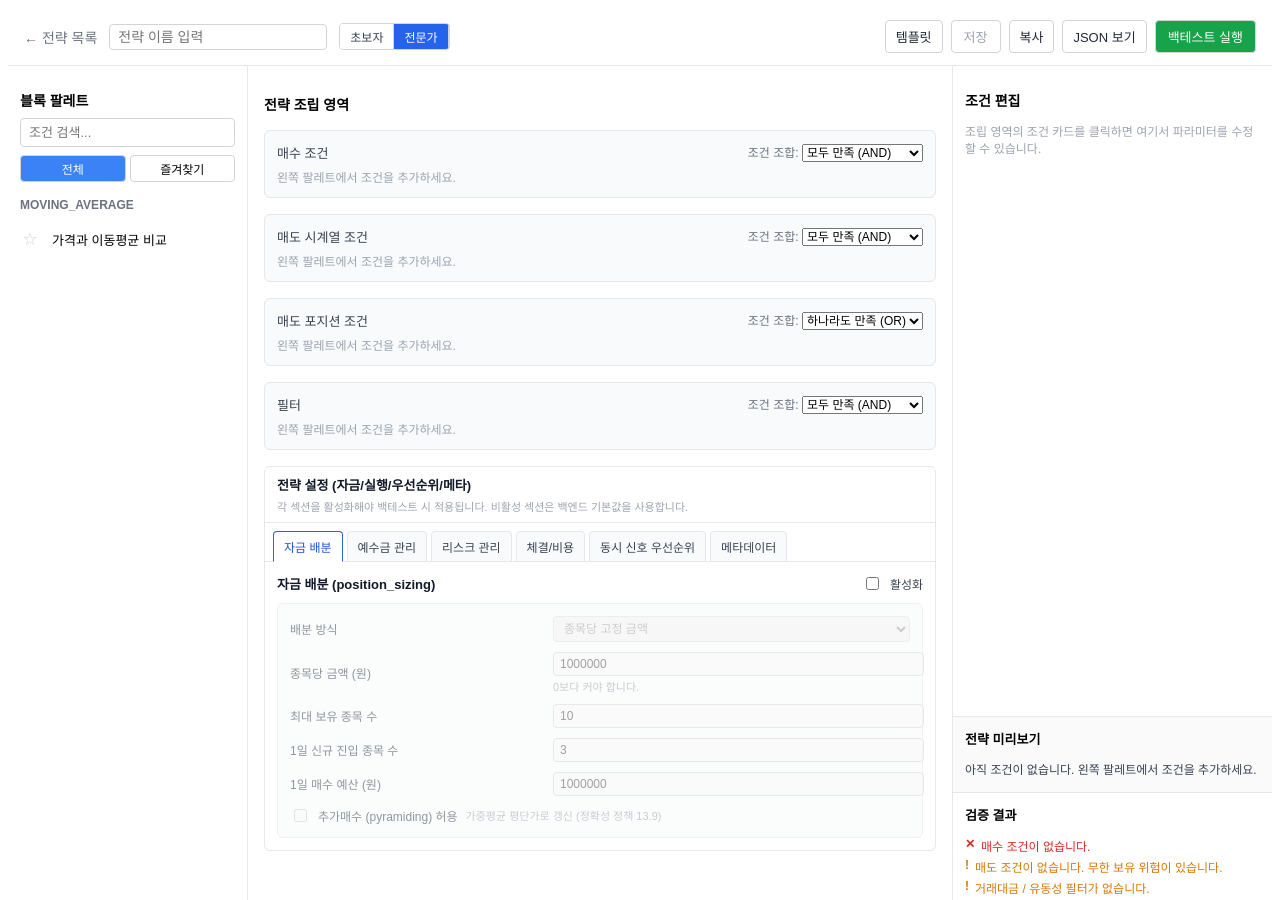
Scenario: ConditionEditorPanel › select 변경 (operator 위→아래)
Click the button "가격과 이동평균 비교".
click(140, 239)  # box [44, 224, 235, 255]
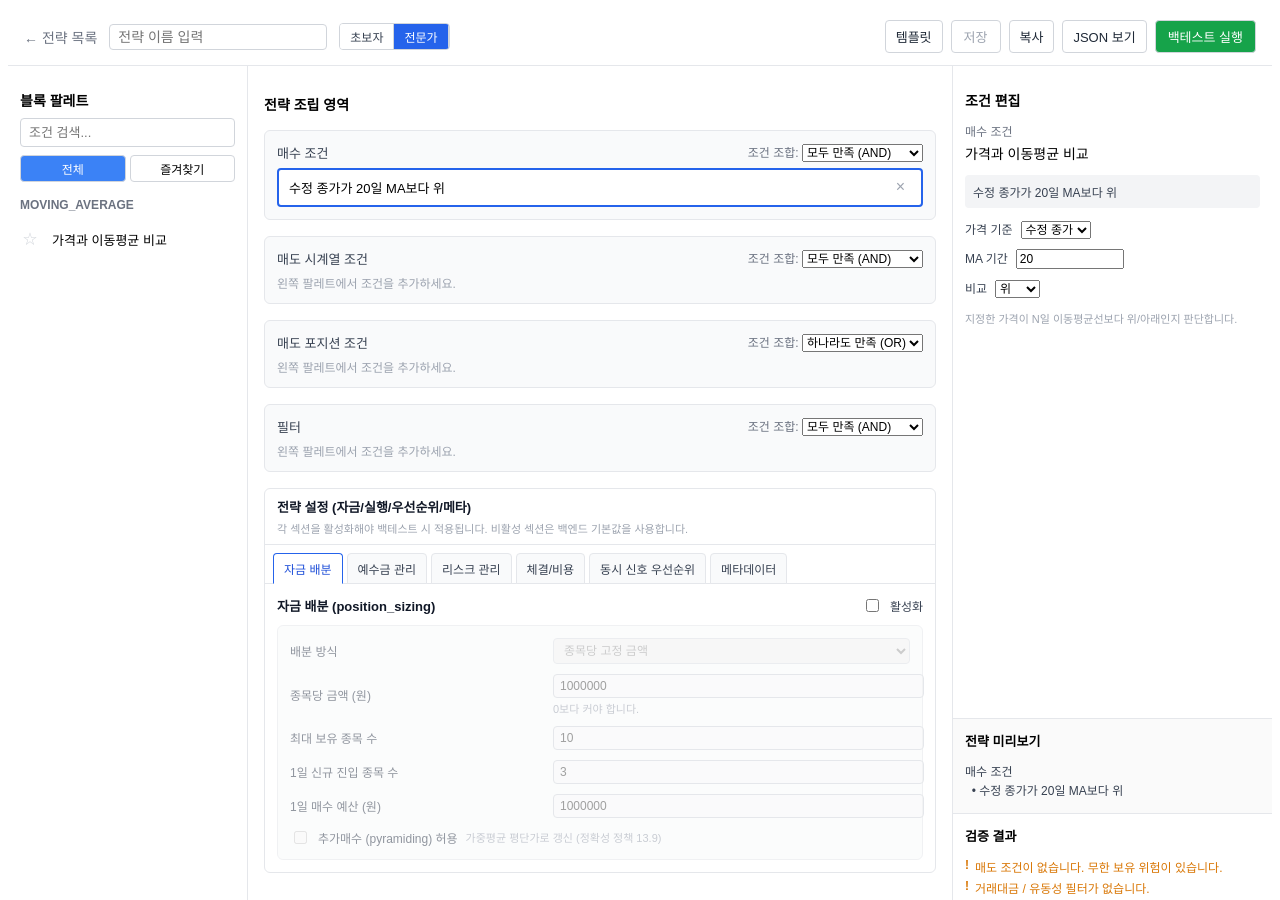
Select "아래" in the dropdown labelled "비교" at (1018, 289), box [995, 280, 1040, 298]
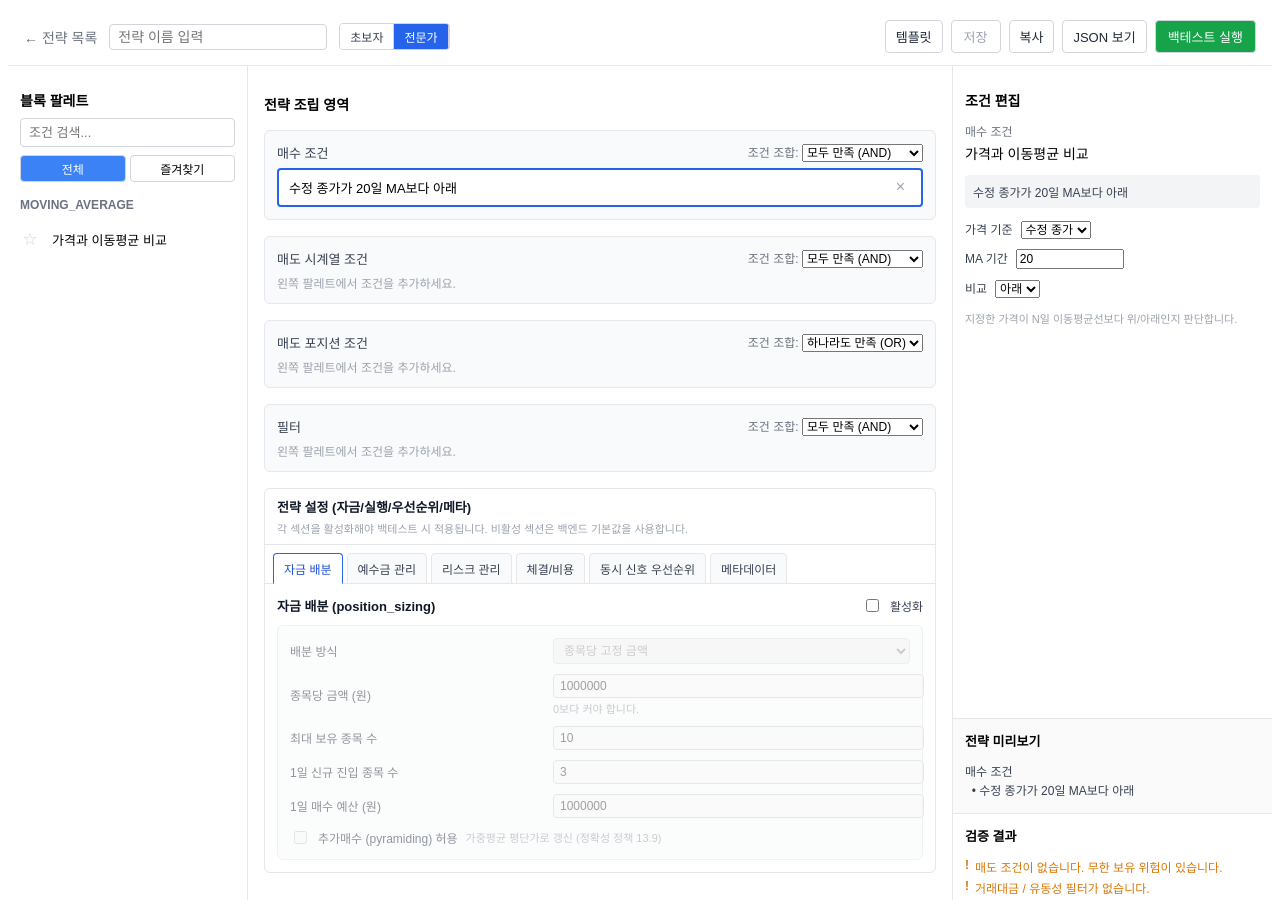
Check: the text with test id "editor-preview" shows "아래", box [973, 186, 1128, 200]
